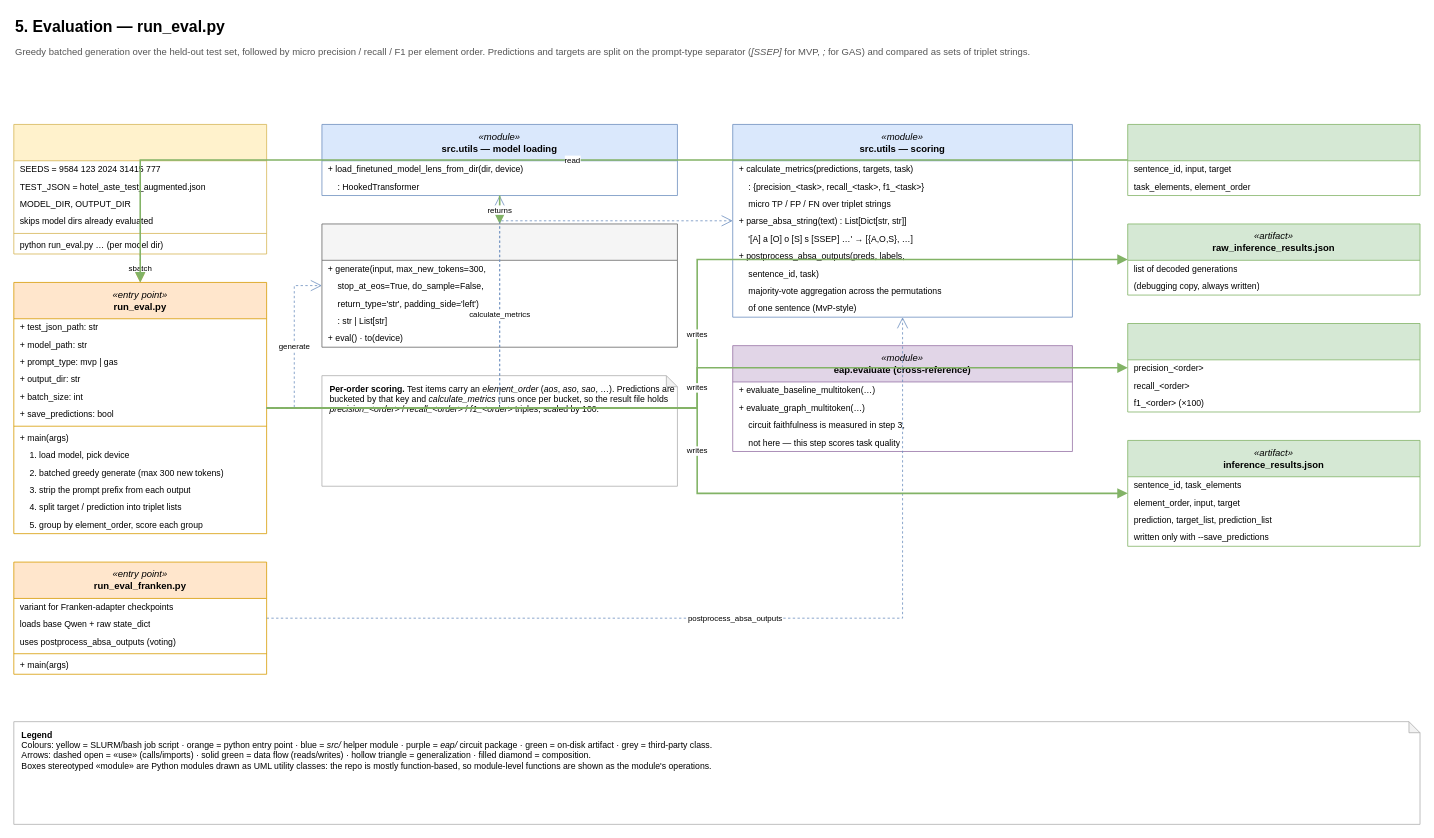
This 1434x838 diagram has some shape labels left out. Here are the shapes that lost their labels. From the top down, the box of each, then its label:
(1127, 124, 1420, 196): «artifact» hotel_aste_test_augmented.json
(13, 124, 267, 254): «job script» scripts/eval.sh
(321, 223, 677, 347): «external» HookedTransformer
(1127, 323, 1420, 412): «artifact» evaluation_results.json
